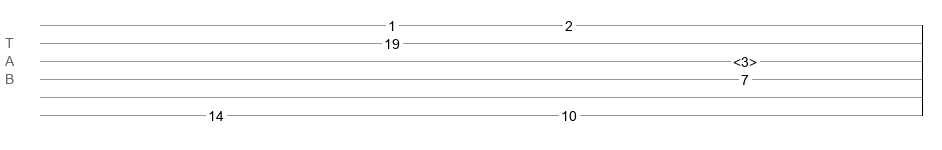1: (388, 18, 396, 28)
10: (561, 108, 577, 118)
14: (208, 108, 224, 118)
19: (384, 36, 400, 46)
2: (565, 18, 573, 28)
7: (741, 72, 749, 82)
harmonic: (733, 54, 757, 64)
